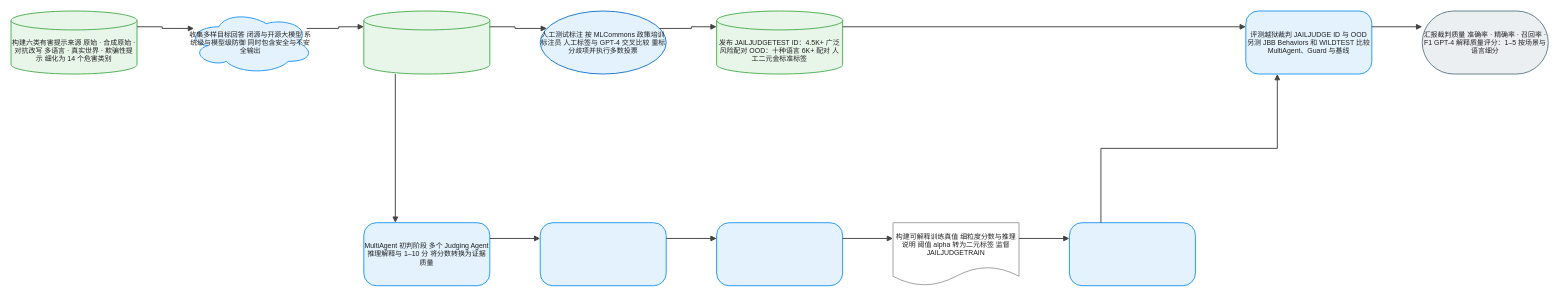
This 1560x297 diagram has some shape labels left out. Here are the shapes that lost their labels. From the top down, the centre of each, then its label:
At point (426, 42): "形成提示-回答配对池 覆盖性 · 多样性 · 平衡性 JAILJUDGETRAIN 来源配对 35K+ 指令微调条目".
At point (602, 254): "证据聚合与投票 用 Dempster 规则合并裁判证据 Voting Agent 接受或拒绝 保留理由与不确定性".
At point (779, 254): "Inference Agent 读取聚合后的裁判结果 读取全部投票结果 输出最终理由与 1–10 分".
At point (1132, 254): "指令微调 JAILJUDGE Guard 基于 Llama-2-7B 输入：用户提示与目标回答 输出：解释与 1–10 分".
